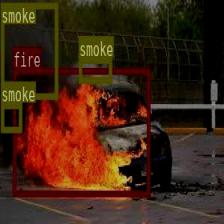fire: (12, 67, 149, 195)
smoke: (0, 3, 58, 98), (78, 56, 111, 82), (0, 102, 22, 131)
